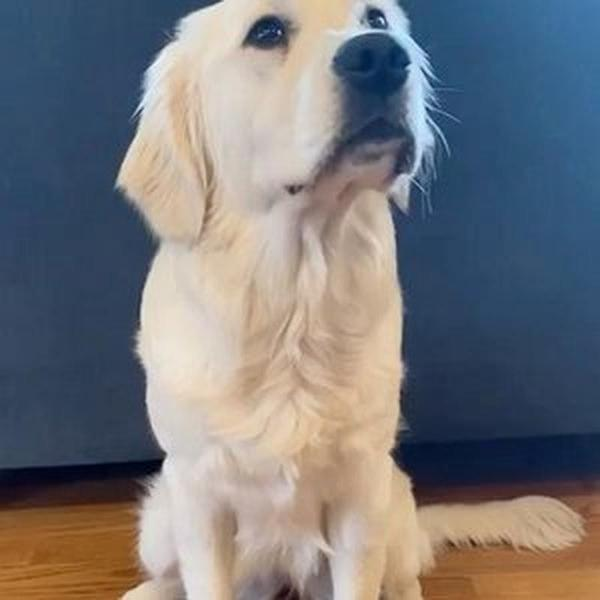allqu: (103, 1, 493, 596)
